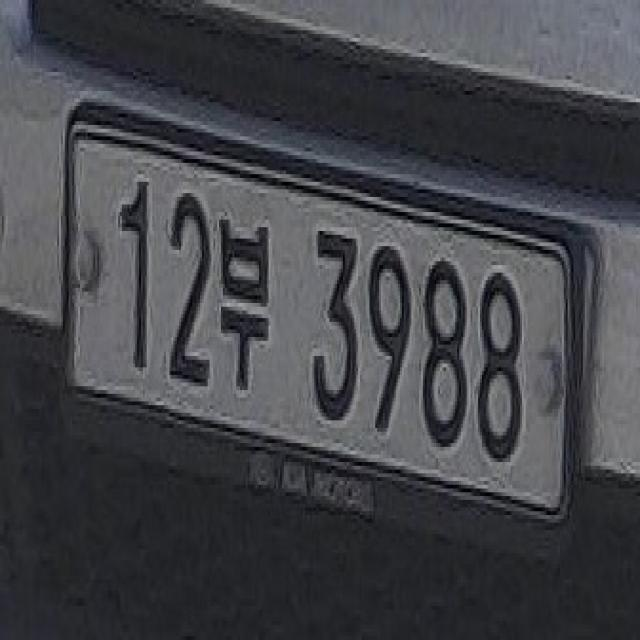1: (120, 170, 154, 388)
2: (168, 186, 213, 398)
3: (308, 226, 360, 434)
8: (476, 262, 532, 478), (422, 244, 468, 462)
9: (367, 240, 414, 450)
bu: (218, 209, 277, 397)
license_plate: (60, 96, 575, 539)
